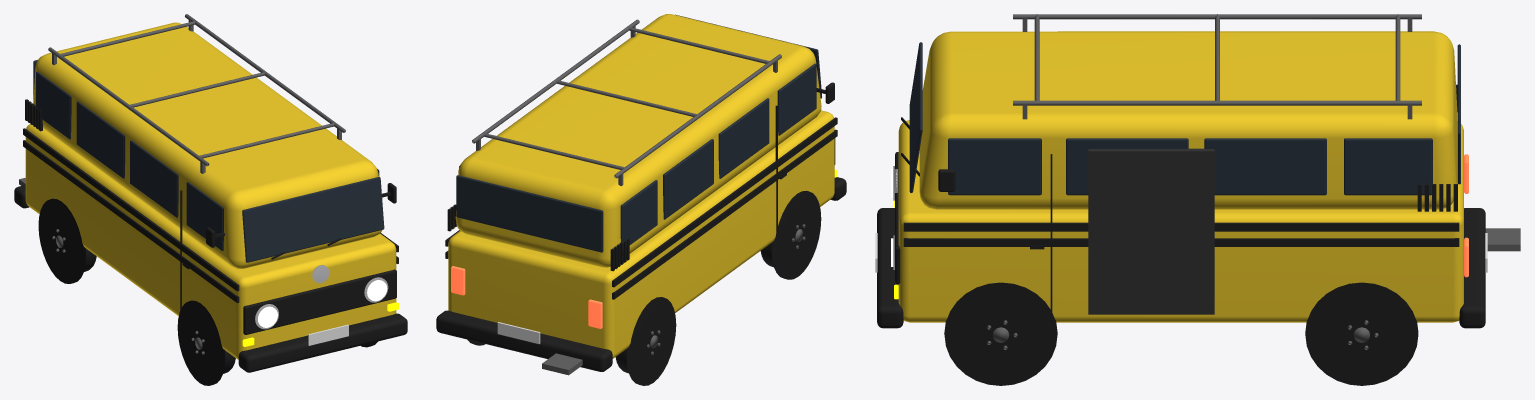
Rendered from danfo.glb.
3 views of the same model, side by side, from view 1: azimuth 30°, elevation 25°; view 2: azimuth 150°, elevation 25°; view 3: azimuth 270°, elevation 25° (orthographic). The views are drawn at different scales.
Visible parts, largest first — view 1: V_danfo; view 2: V_danfo; view 3: V_danfo.
Part boxes in pixels (x1=…): V_danfo: x1=14, y1=14, x2=407, y2=385; V_danfo: x1=436, y1=14, x2=846, y2=385; V_danfo: x1=875, y1=14, x2=1520, y2=385.
Bounding box in the file's own units: 2.31 × 2.54 × 5.37.
